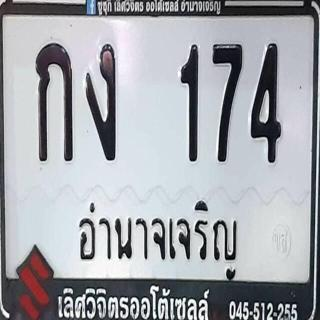A01: (29, 34, 79, 170)
A07: (78, 36, 123, 166)
N01: (171, 40, 207, 171)
N04: (247, 38, 289, 171)
N07: (207, 38, 245, 169)
P01: (71, 198, 245, 283)
